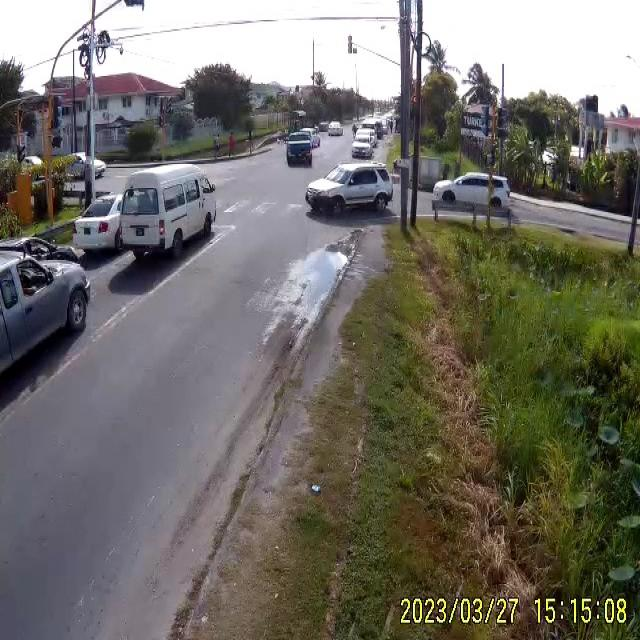car: (117, 166, 215, 260), (303, 164, 395, 216), (430, 172, 510, 212), (76, 194, 126, 254), (286, 132, 314, 166), (353, 125, 378, 148), (352, 141, 374, 159), (327, 124, 342, 137)
